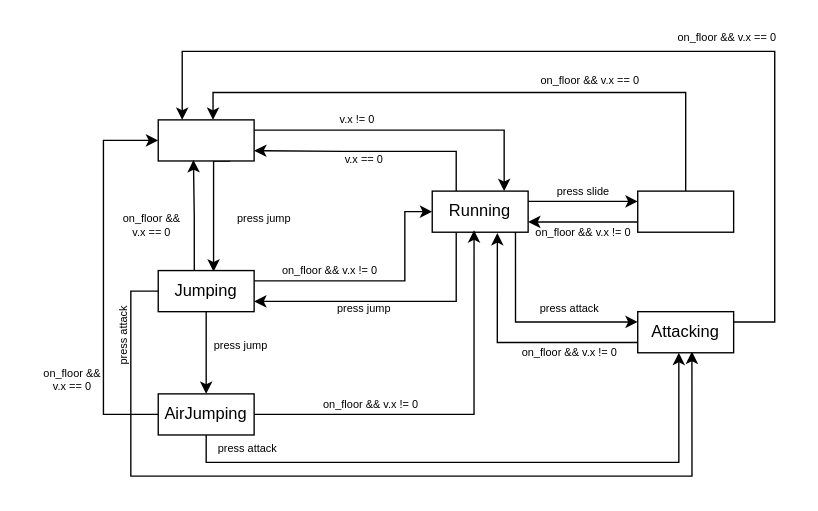
Some shapes in this 818 by 511 pixel diagram are drawn without their labels. Each missing label, with the centre of its shape:
"Idle" goes at (205,140).
"Sliding" goes at (685,211).
